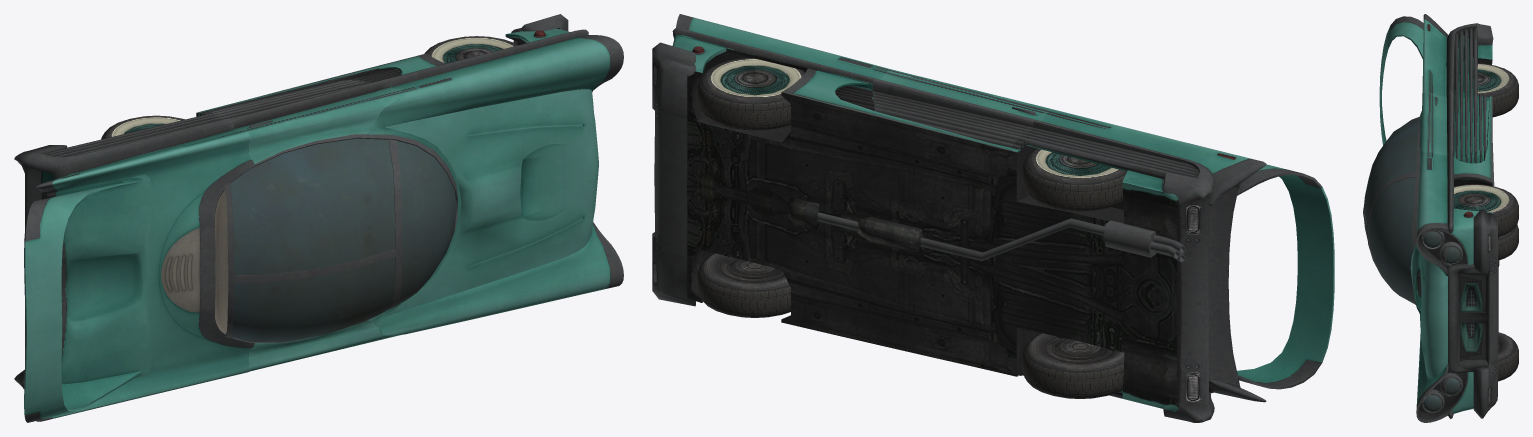
The model's file is veh_t6_nuketown_2020_car01_clean_LOD0.obj.
The picture shows the model from 3 angles, left to right: view 1: azimuth 30°, elevation 25°; view 2: azimuth 150°, elevation 25°; view 3: azimuth 270°, elevation 25°; orthographic projection. The views are drawn at different scales.
Parts seen in each view (by area): view 1: mtl_nt_2020_car_01_exterior, mtl_nt_2020_car_01_glass_out, mtl_nt_2020_car_01_glass_in, mtl_nt_2020_car_01_tire, mtl_nt_2020_car_01_interior; view 2: mtl_nt_2020_car_01_exterior, mtl_nt_2020_car_01_tire; view 3: mtl_nt_2020_car_01_exterior, mtl_nt_2020_car_01_glass_out, mtl_nt_2020_car_01_tire, mtl_nt_2020_car_01_glass_in.
Boxes of the visible parts, bbox=[...] form: mtl_nt_2020_car_01_exterior: bbox=[14, 14, 623, 422]; mtl_nt_2020_car_01_glass_out: bbox=[230, 138, 456, 342]; mtl_nt_2020_car_01_glass_in: bbox=[230, 138, 456, 342]; mtl_nt_2020_car_01_tire: bbox=[101, 36, 518, 139]; mtl_nt_2020_car_01_interior: bbox=[214, 171, 246, 339]; mtl_nt_2020_car_01_exterior: bbox=[652, 14, 1334, 422]; mtl_nt_2020_car_01_tire: bbox=[697, 58, 1126, 398]; mtl_nt_2020_car_01_exterior: bbox=[1363, 14, 1499, 422]; mtl_nt_2020_car_01_glass_out: bbox=[1363, 118, 1460, 412]; mtl_nt_2020_car_01_tire: bbox=[1454, 63, 1518, 381]; mtl_nt_2020_car_01_glass_in: bbox=[1364, 120, 1418, 303].
Size of the model in its own units: 538 by 209 by 150.
